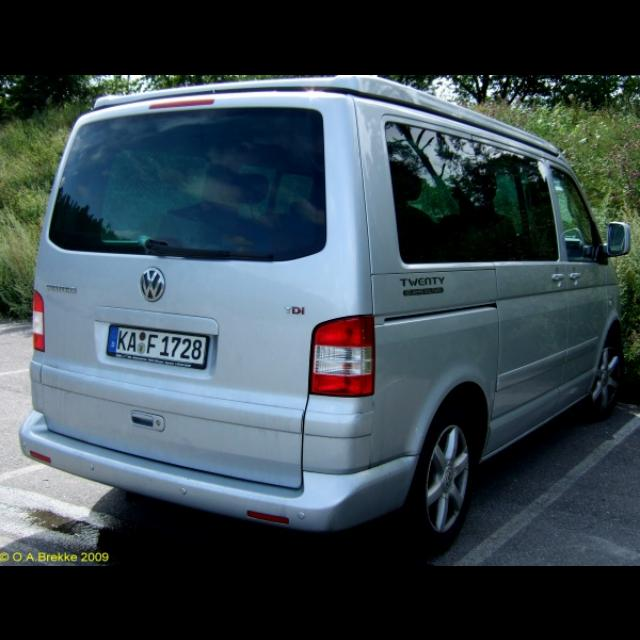d_license_plate: (106, 324, 206, 364)
